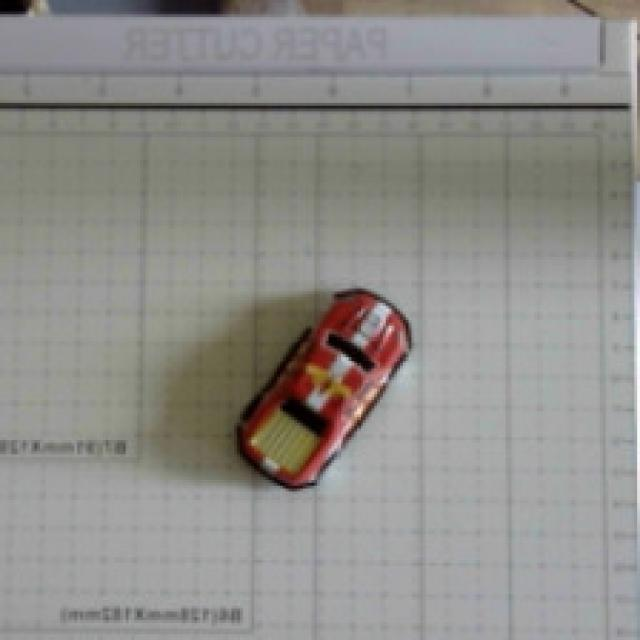Red Car: (207, 286, 446, 509)
